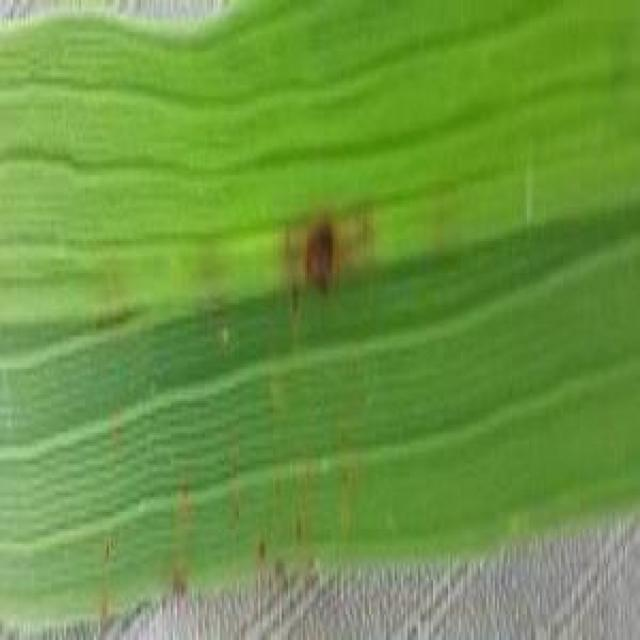Brown_Spot: (266, 214, 376, 296)
